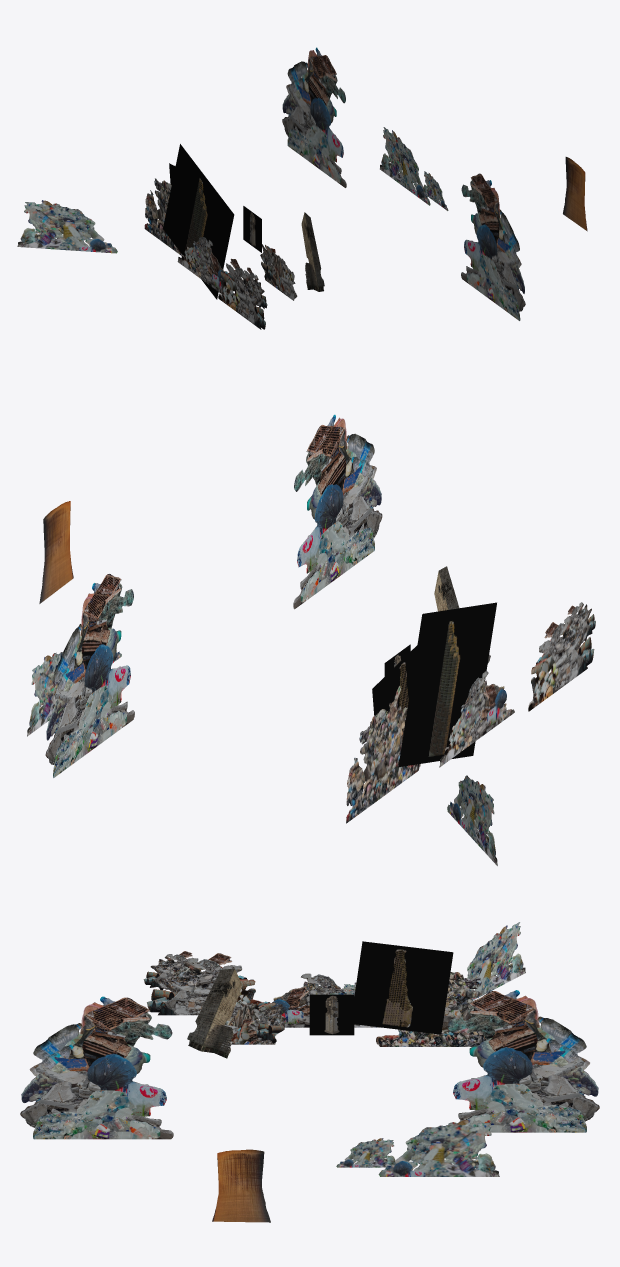
The model's file is BackgroundImage.fbx.
The picture shows the model from 3 angles, top to bottom: view 1: azimuth 30°, elevation 25°; view 2: azimuth 150°, elevation 25°; view 3: azimuth 270°, elevation 25°; orthographic projection. The views are drawn at different scales.
Parts seen in each view (by area): view 1: pile 4.001, pile 4.002, building_7.001, pile 6.003, pile 7.001, pile 6.004, pile 5.001, factory_1.001, rubbish heap 3, pile 8.001, building_13.001, building_14.001 (+1 smaller); view 2: pile 4.001, pile 4.002, building_7.001, rubbish heap 3, pile 7.001, pile 5.001, factory_1.001, pile 6.003, building_1.001, pile 6.004, building_13.001; view 3: pile 4.002, pile 4.001, building_1.001, pile 6.004, pile 7.001, factory_1.001, rubbish heap 3, building_13.001, pile 6.003, pile 8.001, building_14.001, pile 5.001 (+1 smaller).
Part boxes in pixels (<box>): pile 4.001: <box>282,47,346,187</box>; pile 4.002: <box>461,173,525,320</box>; building_7.001: <box>163,144,234,299</box>; pile 6.003: <box>17,200,117,253</box>; pile 7.001: <box>218,258,267,329</box>; pile 6.004: <box>380,127,430,205</box>; pile 5.001: <box>177,237,224,293</box>; factory_1.001: <box>563,157,587,231</box>; rubbish heap 3: <box>144,178,181,255</box>; pile 8.001: <box>260,244,297,300</box>; building_13.001: <box>301,212,324,291</box>; building_14.001: <box>243,206,261,252</box>; pile 4.001: <box>45,574,134,777</box>; pile 4.002: <box>293,414,382,609</box>; building_7.001: <box>398,602,496,767</box>; rubbish heap 3: <box>346,686,420,823</box>; pile 7.001: <box>528,602,595,711</box>; pile 5.001: <box>439,671,514,767</box>; factory_1.001: <box>39,501,73,603</box>; pile 6.003: <box>447,775,497,865</box>; building_1.001: <box>372,645,417,741</box>; pile 6.004: <box>27,652,72,736</box>; building_13.001: <box>434,566,459,611</box>; pile 4.002: <box>20,996,173,1139</box>; pile 4.001: <box>447,990,599,1132</box>; building_1.001: <box>354,941,453,1034</box>; pile 6.004: <box>378,1119,499,1176</box>; pile 7.001: <box>143,951,255,1015</box>; factory_1.001: <box>212,1149,270,1222</box>; rubbish heap 3: <box>376,972,485,1046</box>; building_13.001: <box>187,968,242,1058</box>; pile 6.003: <box>467,922,525,1000</box>; pile 8.001: <box>224,999,286,1044</box>; building_14.001: <box>309,994,354,1035</box>; pile 5.001: <box>271,973,380,1027</box>.
Bounding box in the file's own units: 3139 × 1069 × 3067.
